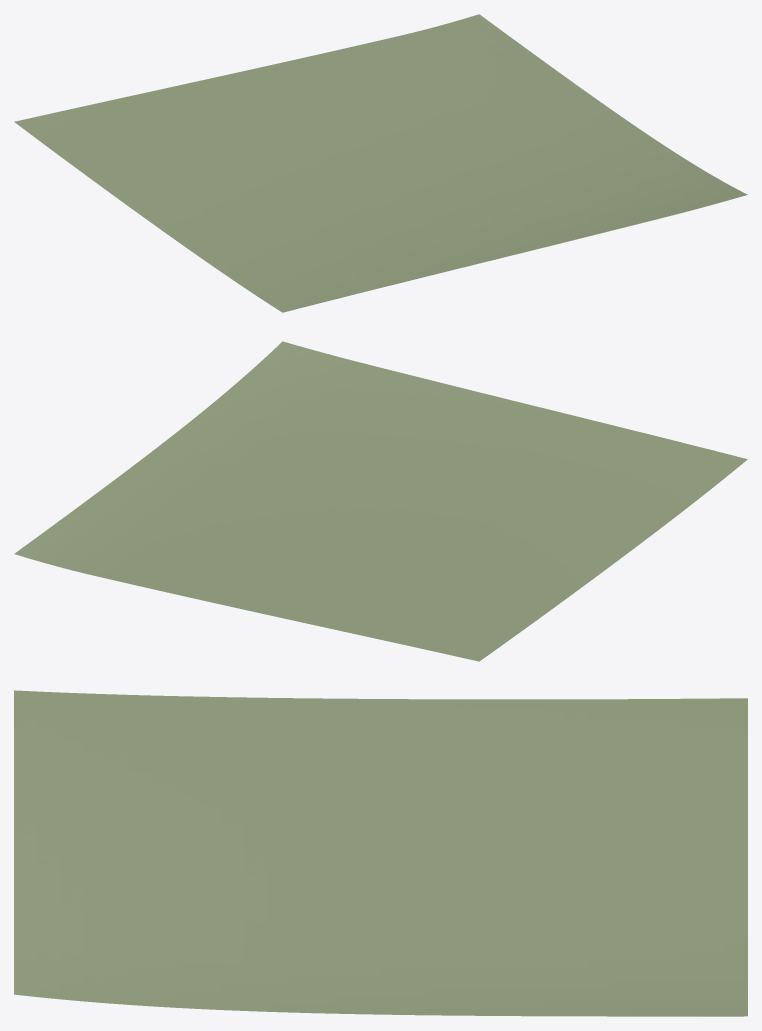
Rendered from expanse-23-19.glb.
The picture shows the model from 3 angles, top to bottom: view 1: azimuth 30°, elevation 25°; view 2: azimuth 150°, elevation 25°; view 3: azimuth 270°, elevation 25°; orthographic projection. The views are drawn at different scales.
Visible parts, largest first — view 1: expanse-23-19; view 2: expanse-23-19; view 3: expanse-23-19.
Boxes of the visible parts, x1,y1,x2,y2 form: expanse-23-19: [14, 14, 747, 312]; expanse-23-19: [14, 341, 747, 661]; expanse-23-19: [14, 690, 747, 1016].
Bounding box in the file's own units: 256 × 9.61 × 256.
